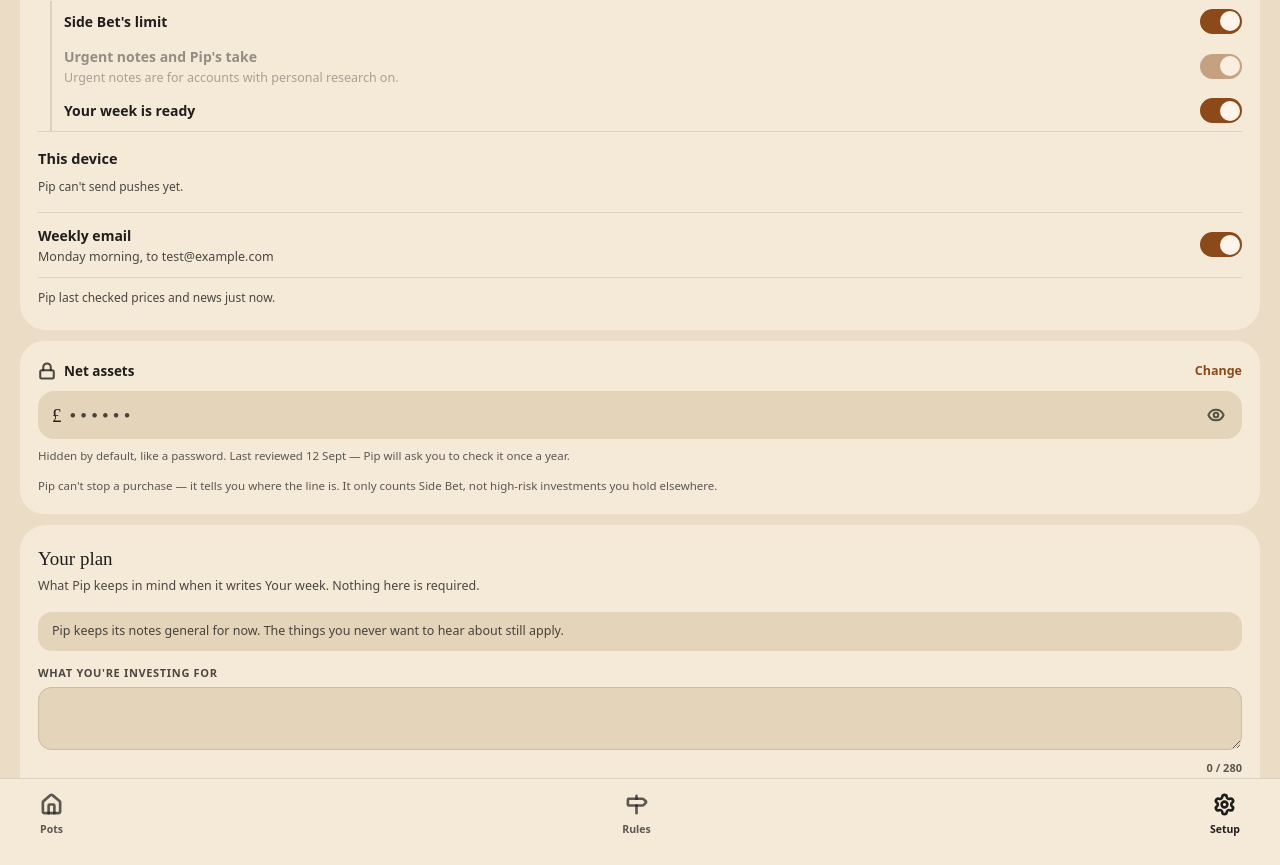
Test: the net assets row › hides it again on a second tap
(page scrolled)
Click the button named "Show net assets": [1216, 415] box [1194,393,1238,437]
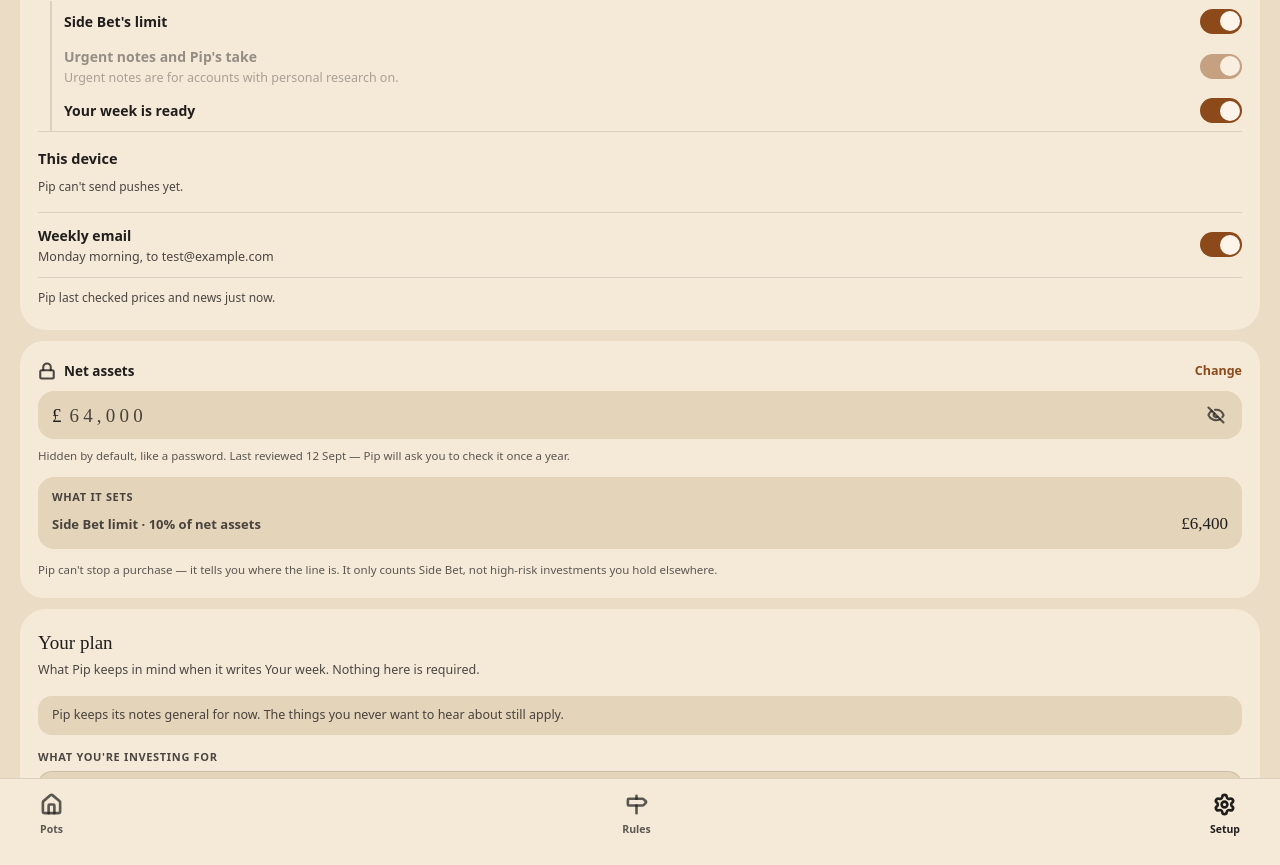
Result: the text "64,000" is shown at [70,405,147,426]
Click the button named "Hide net assets": [1216, 415] box [1194,393,1238,437]
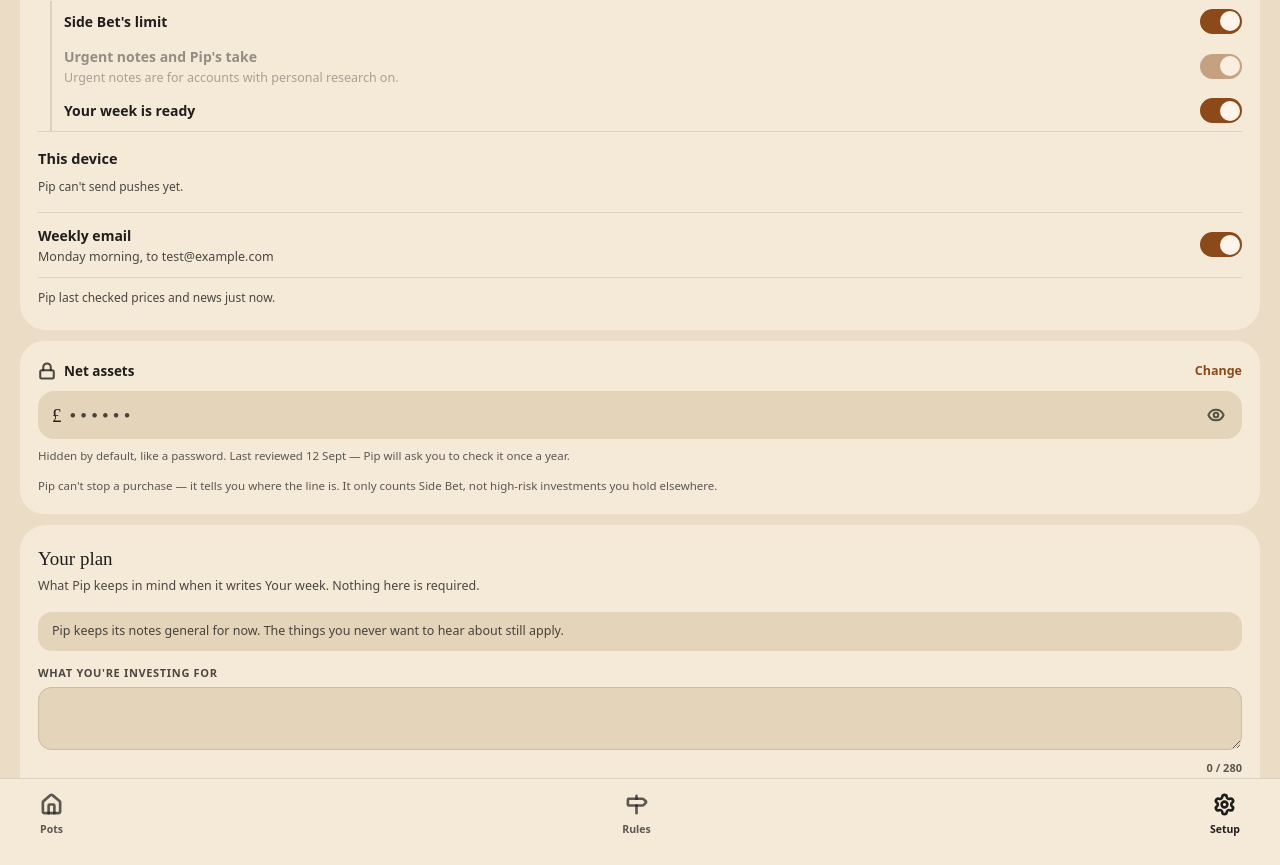
Result: the text "••••••" is shown at [70,405,134,426]
Result: the element "Net assets" no longer shows "£6,400" at [20,341,1260,514]
